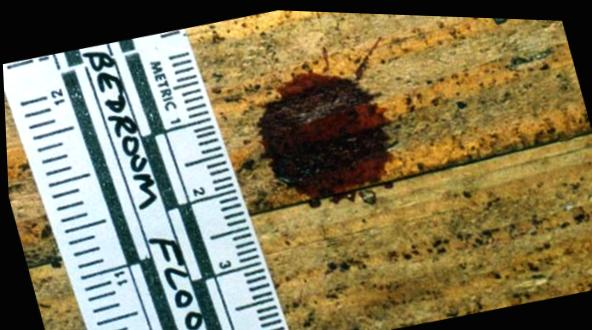Fire: (254, 44, 395, 205)
